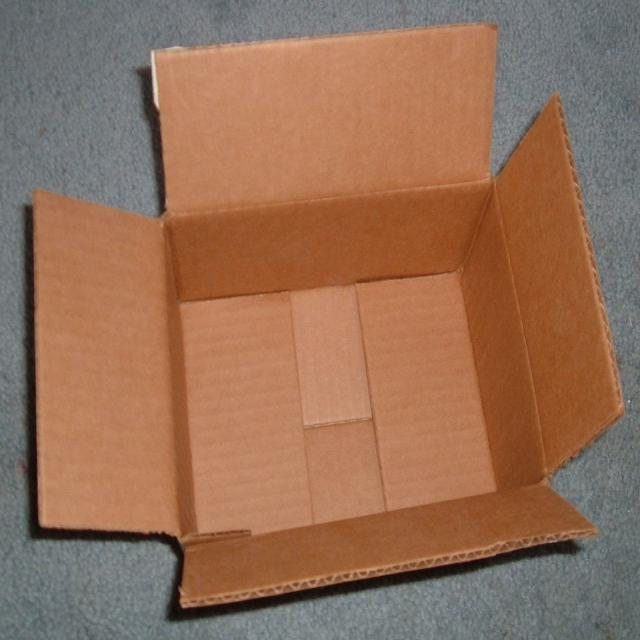cardboard: (9, 0, 640, 616)
